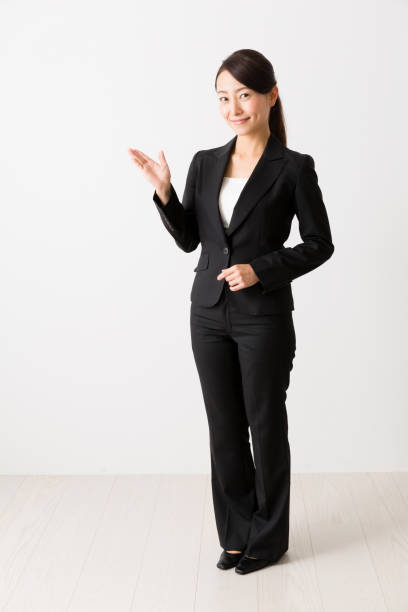pointing_gesture: (123, 147, 178, 193)
